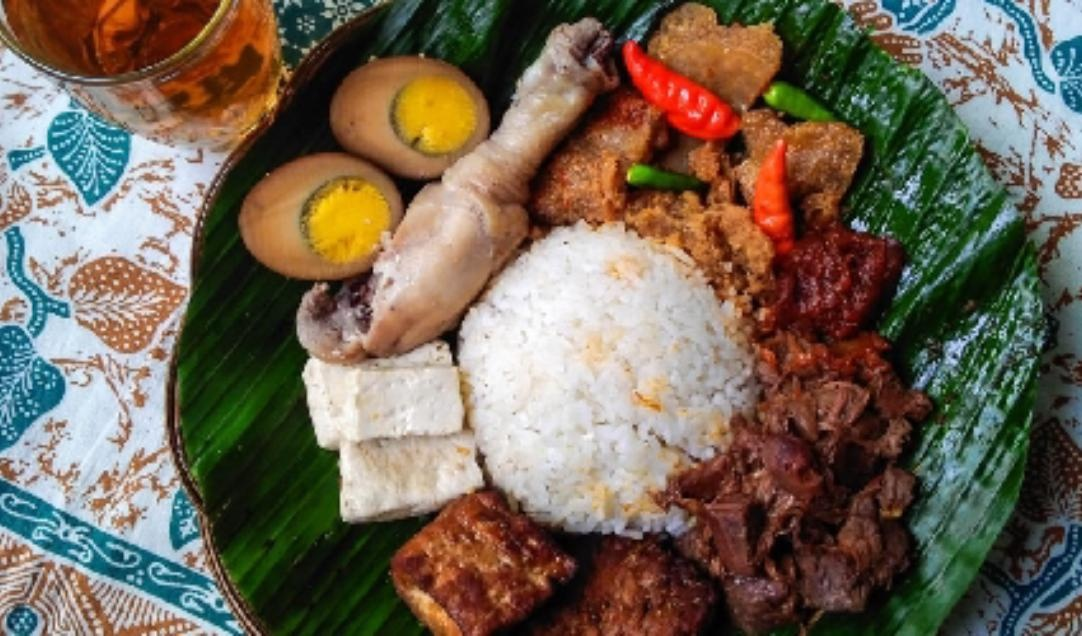gudeg: (272, 44, 950, 636)
